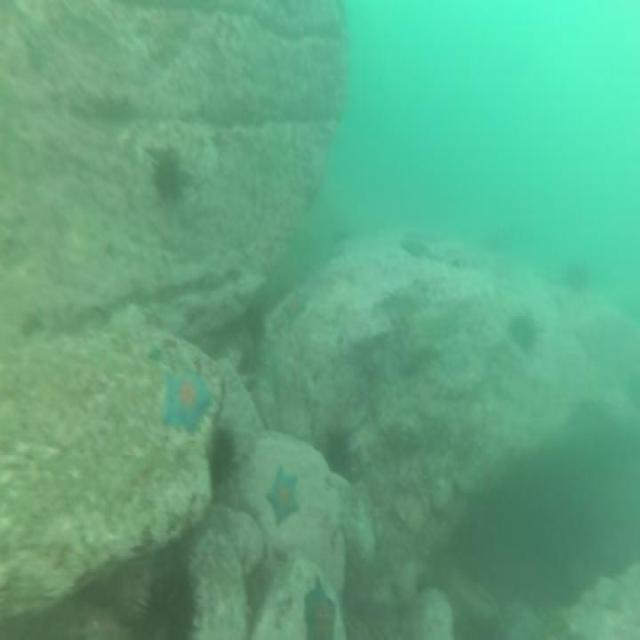echinus: (131, 562, 205, 640), (149, 145, 183, 207), (209, 423, 240, 490), (319, 425, 353, 479), (505, 305, 540, 356), (565, 254, 591, 300)
starfish: (159, 365, 213, 439), (300, 570, 340, 640), (262, 464, 302, 530), (280, 286, 310, 327)
